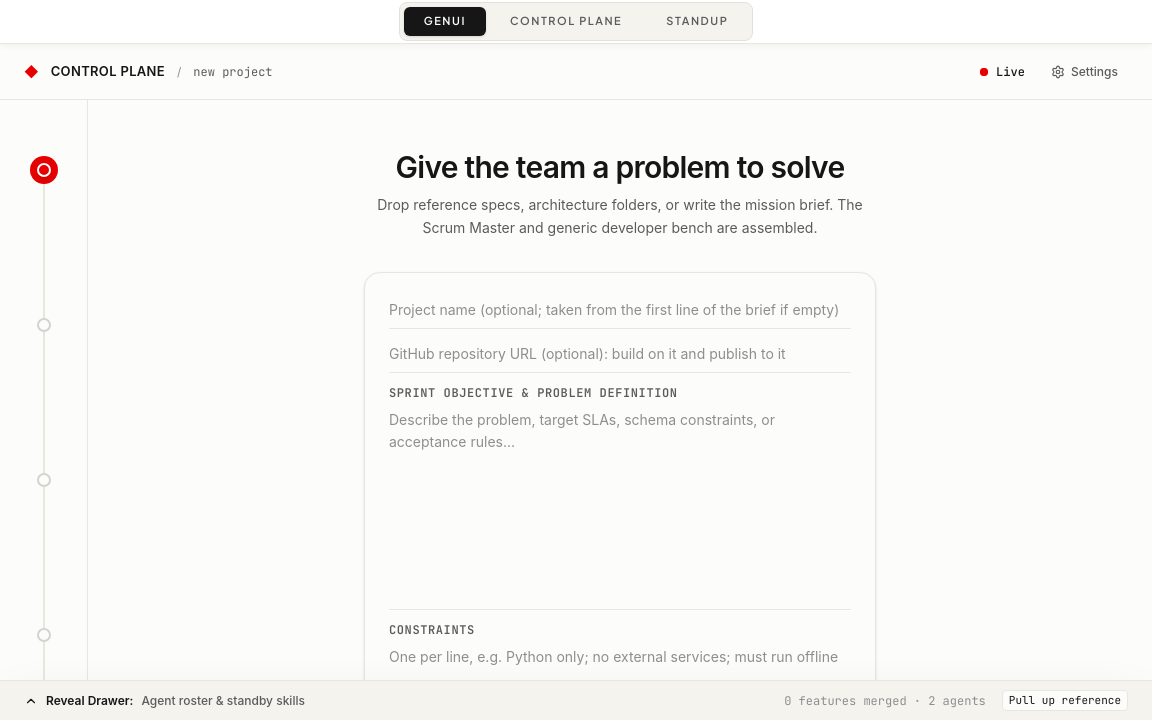
Scenario: the Memory tab › shows the project memory as a graph, with the scopes of every agent that has its own
Click the tab "Control Plane" at (566, 22), box [490,7,642,36]
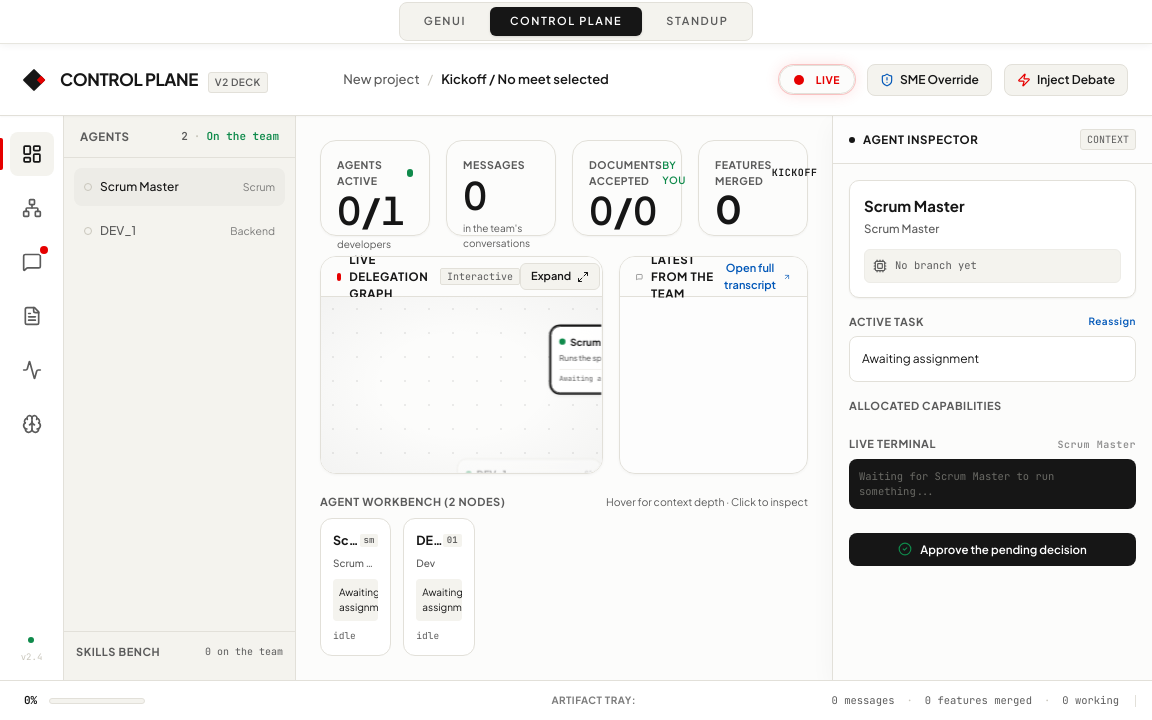
Click the button named "Memory — Project & Agent Knowledge" at (32, 424), box [10,402,54,446]
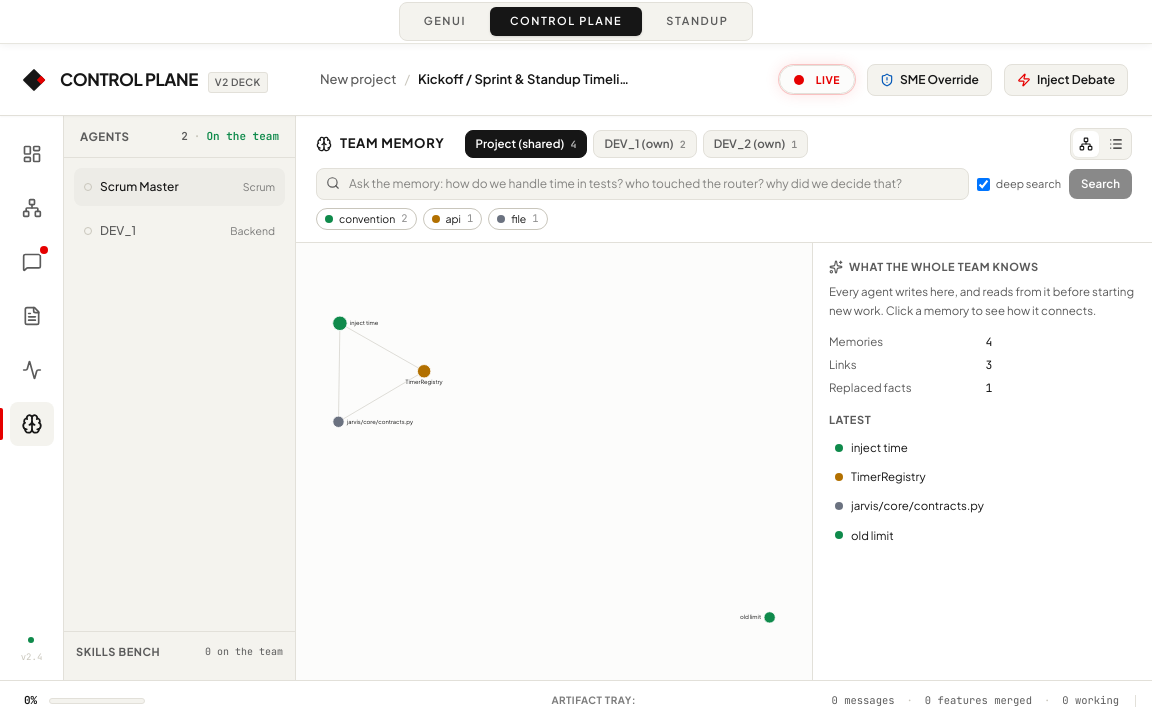
Expected: the icon named "Memory graph" is shown, [296,243,812,680]
Expected: the tab "DEV_1 (own) 2" is shown, [593,130,697,158]
Expected: the tab "DEV_2 (own) 1" is shown, [703,130,808,158]
